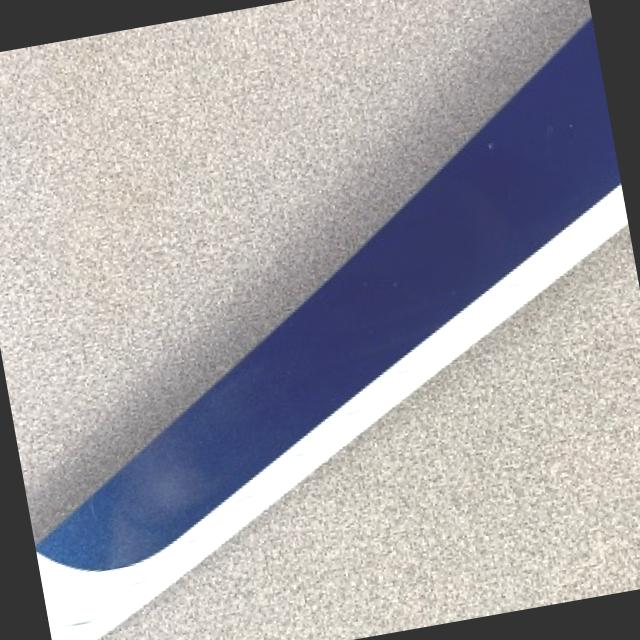healthy: (100, 225, 640, 640)
